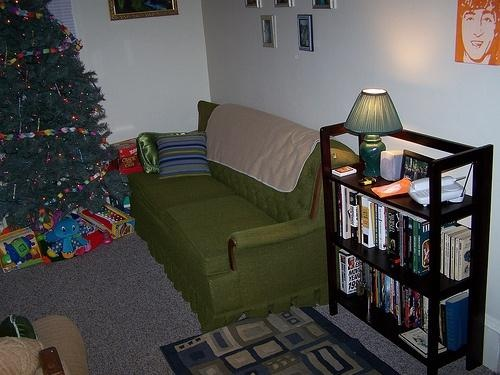sofa: (129, 101, 360, 331), (1, 314, 103, 375)
